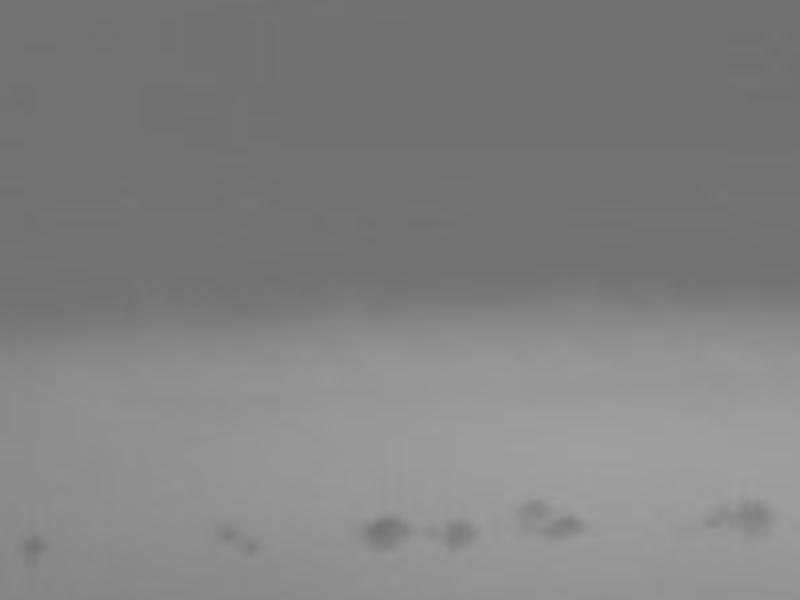defect: (729, 497, 778, 538), (365, 514, 408, 551), (434, 516, 478, 551), (699, 493, 732, 531), (536, 511, 578, 538), (19, 536, 48, 563), (519, 493, 546, 517), (239, 537, 263, 560), (214, 523, 237, 538)
